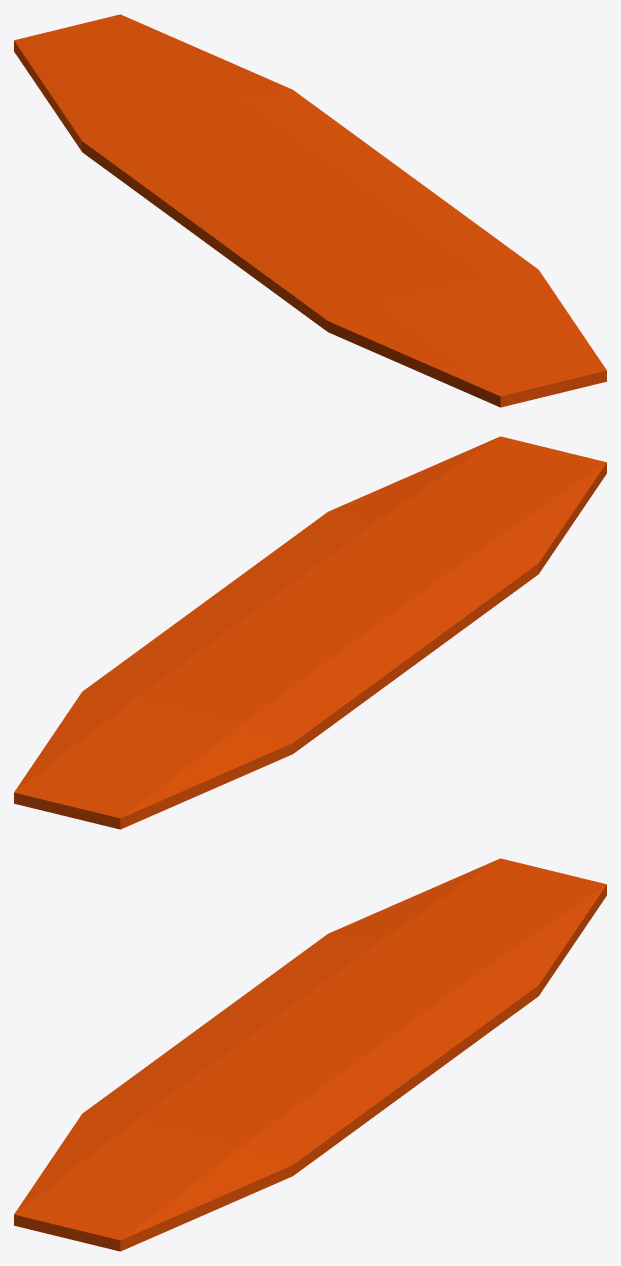
Rendered from skateboard.glb.
3 views of the same model, one above another, from view 1: azimuth 30°, elevation 25°; view 2: azimuth 150°, elevation 25°; view 3: azimuth 330°, elevation 25° (orthographic).
Parts seen in each view (by area): view 1: Cube.020; view 2: Cube.020; view 3: Cube.020.
Part boxes in pixels (<box>): Cube.020: <box>14,14,606,407</box>; Cube.020: <box>14,436,606,829</box>; Cube.020: <box>14,858,606,1251</box>.
Bounding box in the file's own units: 0.2 × 0.02 × 0.8.
